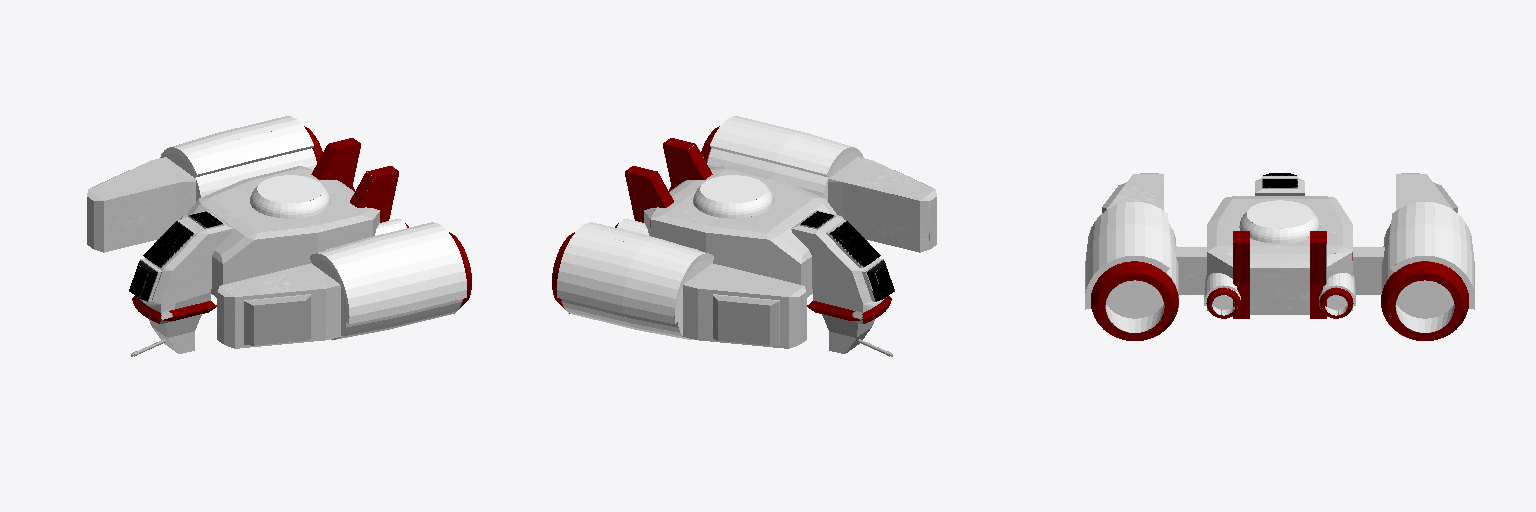
The picture shows the model from 3 angles: view 1: azimuth 30°, elevation 25°; view 2: azimuth 150°, elevation 25°; view 3: azimuth 270°, elevation 25°; orthographic projection.
Visible parts, largest first — view 1: Cube.001; view 2: Cube.001; view 3: Cube.001.
Part boxes in pixels (left/top/right/bottom): Cube.001: left=87, top=116, right=471, bottom=356; Cube.001: left=552, top=116, right=936, bottom=356; Cube.001: left=1085, top=173, right=1474, bottom=340.
Bounding box in the file's own units: 11.4 × 6.28 × 15.45.
Materials: 1 (1 with a texture image).